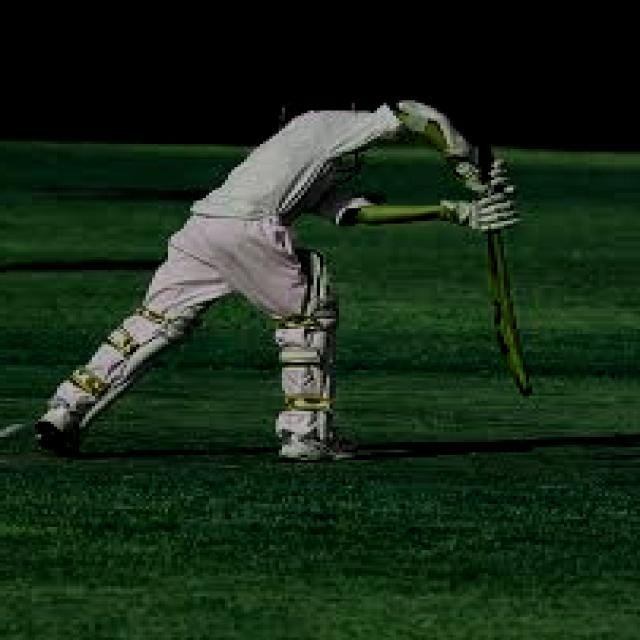bat: (479, 228, 553, 400)
toe: (513, 373, 537, 398)
